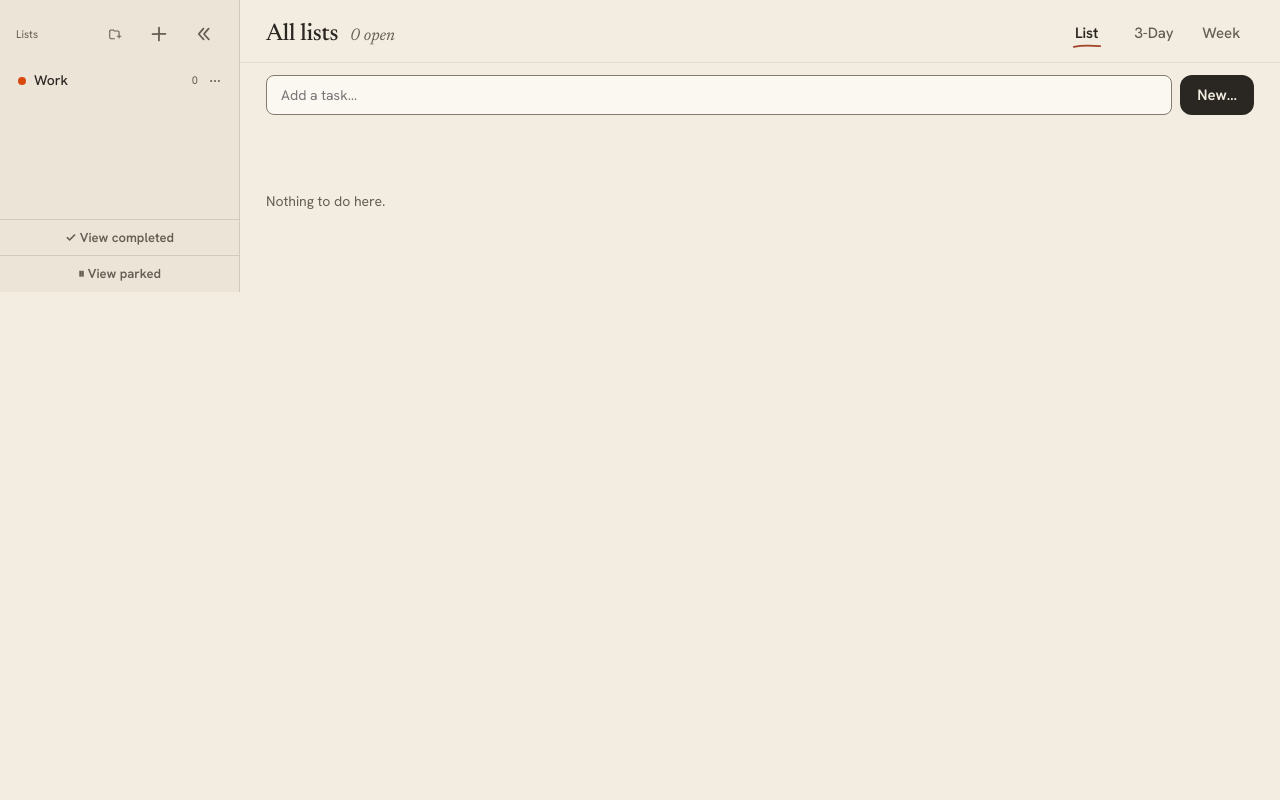
Test: <TasksView> creating › creates every row, then closes and paints the results
Click the button "New…" at (1217, 95), box left=1180, top=75, right=1254, bottom=115
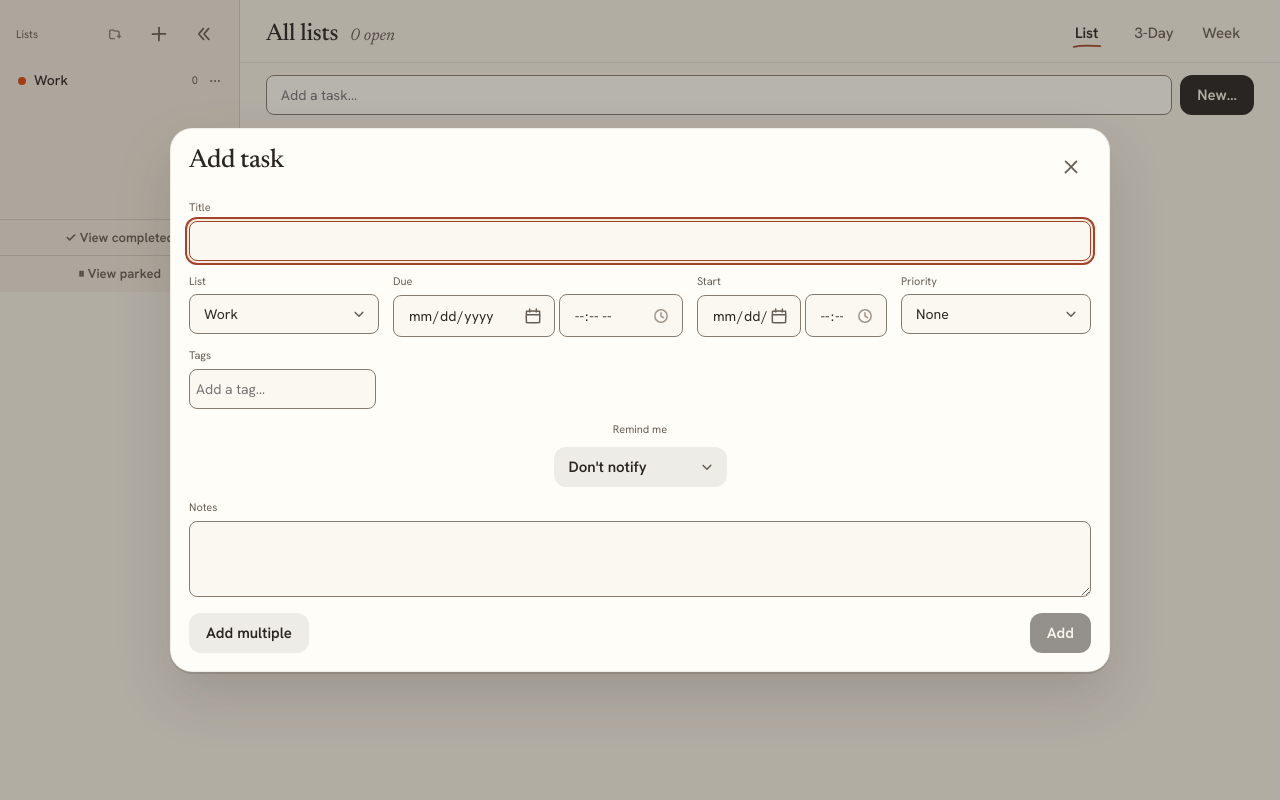
Click the button "Add multiple" at (249, 633), box left=189, top=613, right=309, bottom=653
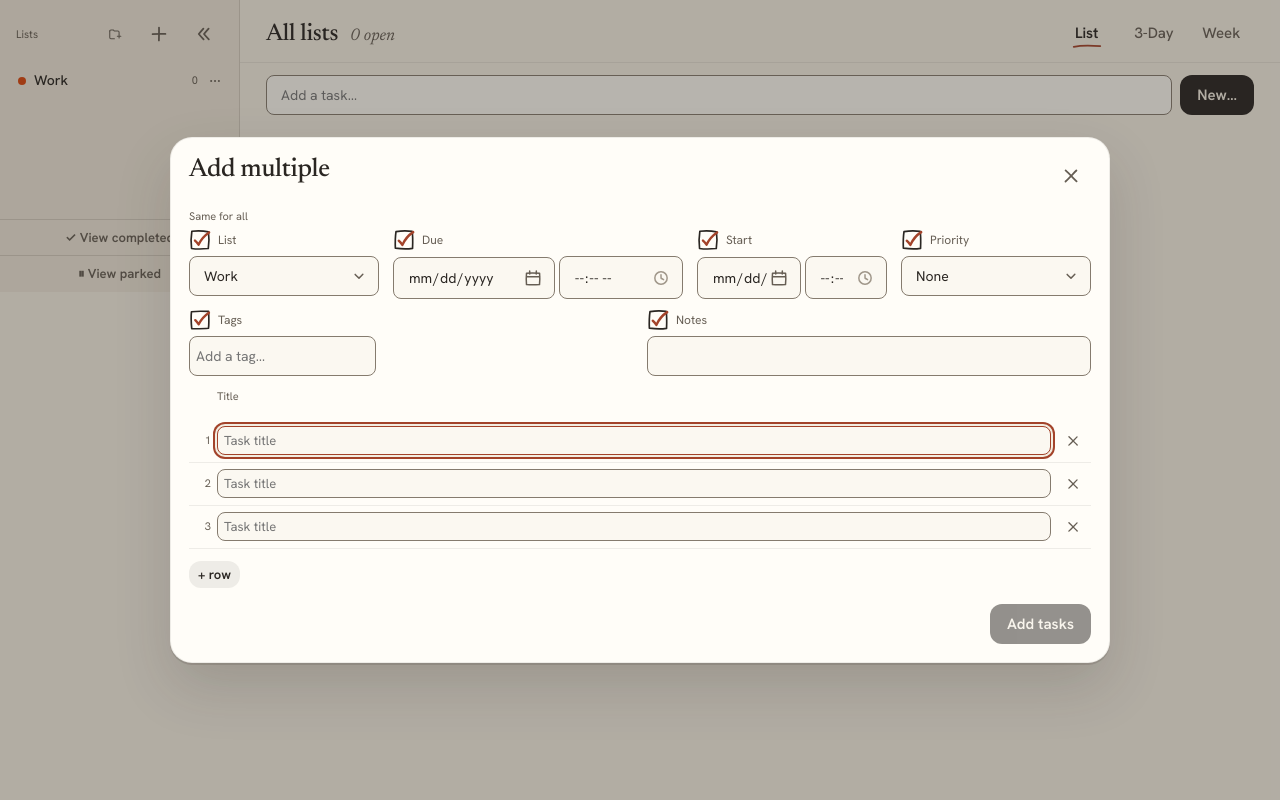
Expected: the dialog named "add multiple tasks" is shown, left=170, top=137, right=1110, bottom=663
Type "alpha" into the field named "Title, row 1" at (634, 440), box left=217, top=426, right=1051, bottom=455
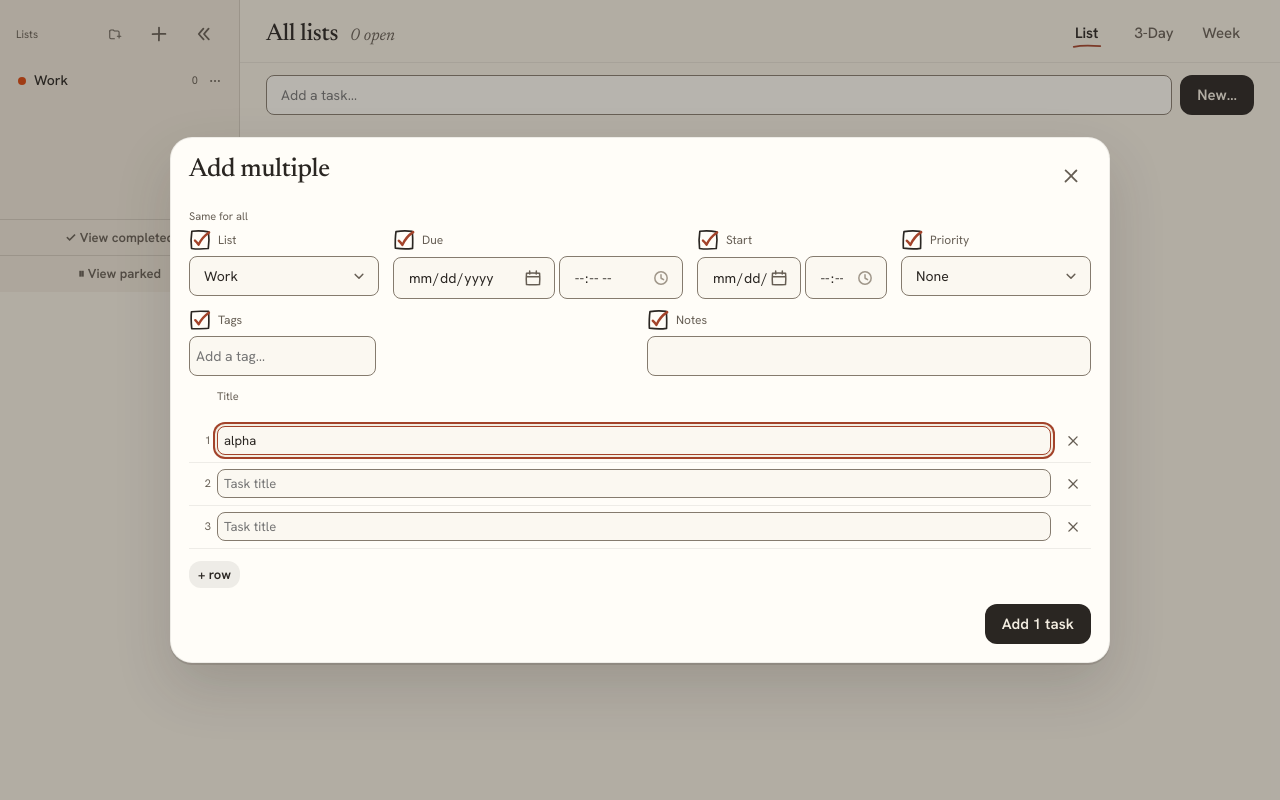
Type "bravo" into the 1st field with placeholder "Task title" at (634, 484), box left=217, top=469, right=1051, bottom=498
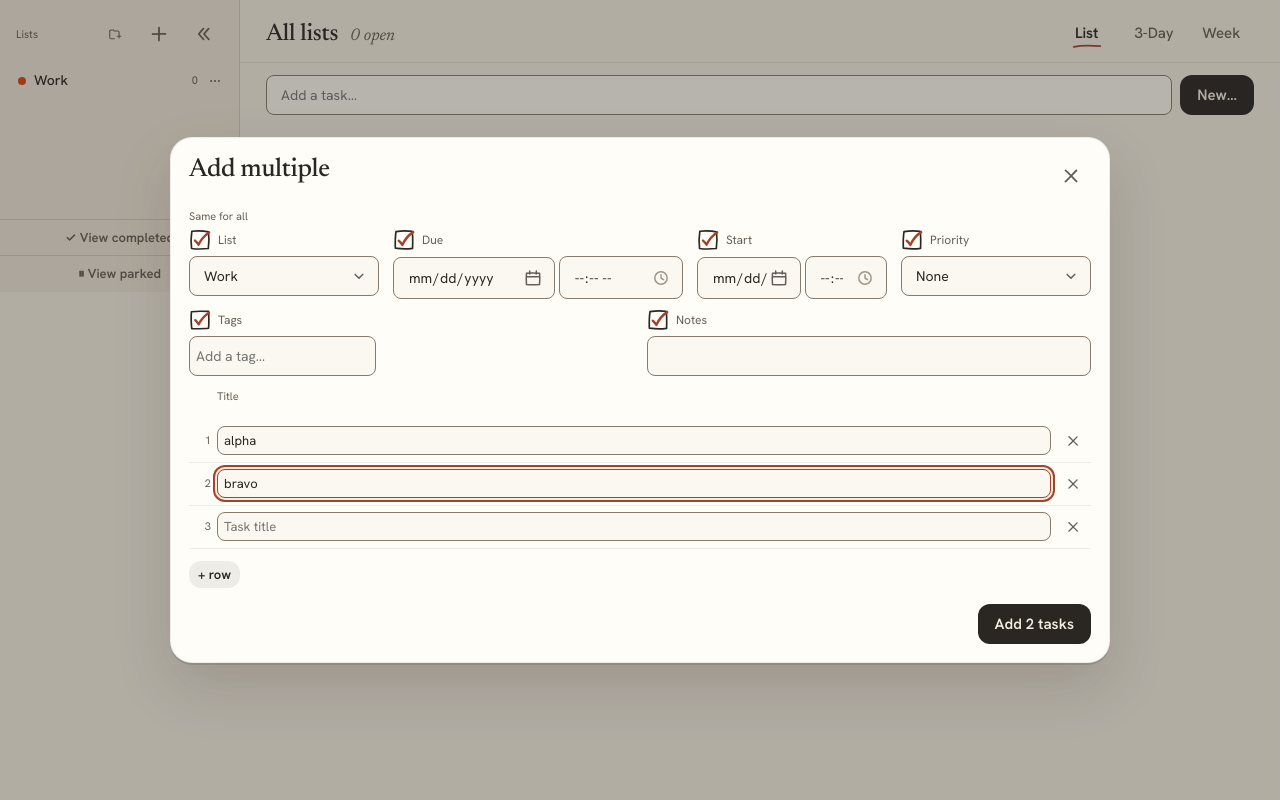
Click the button "Add 2 tasks" at (1034, 624), box left=978, top=604, right=1091, bottom=644
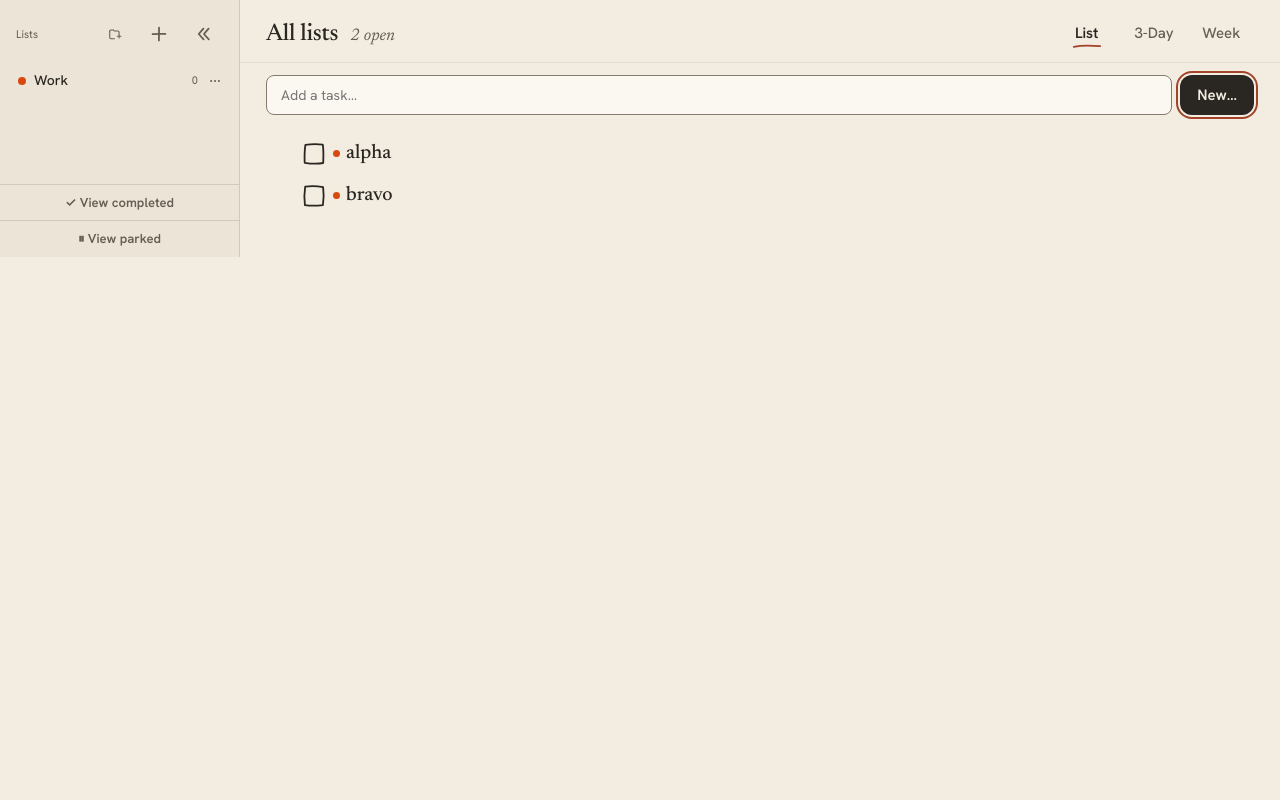
Expected: the dialog is gone
Expected: the text "alpha" is shown, left=333, top=143, right=391, bottom=163
Expected: the text "bravo" is shown, left=333, top=185, right=393, bottom=205
